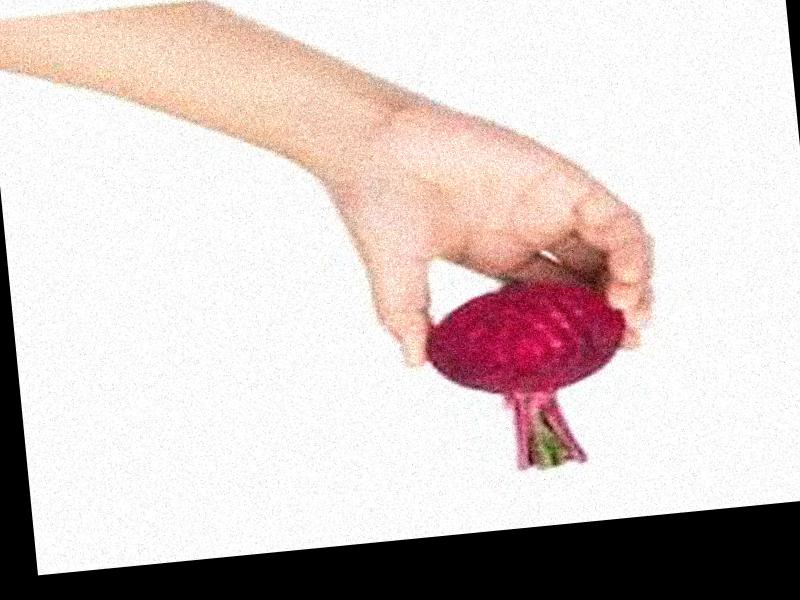Beet: (422, 272, 642, 479)
